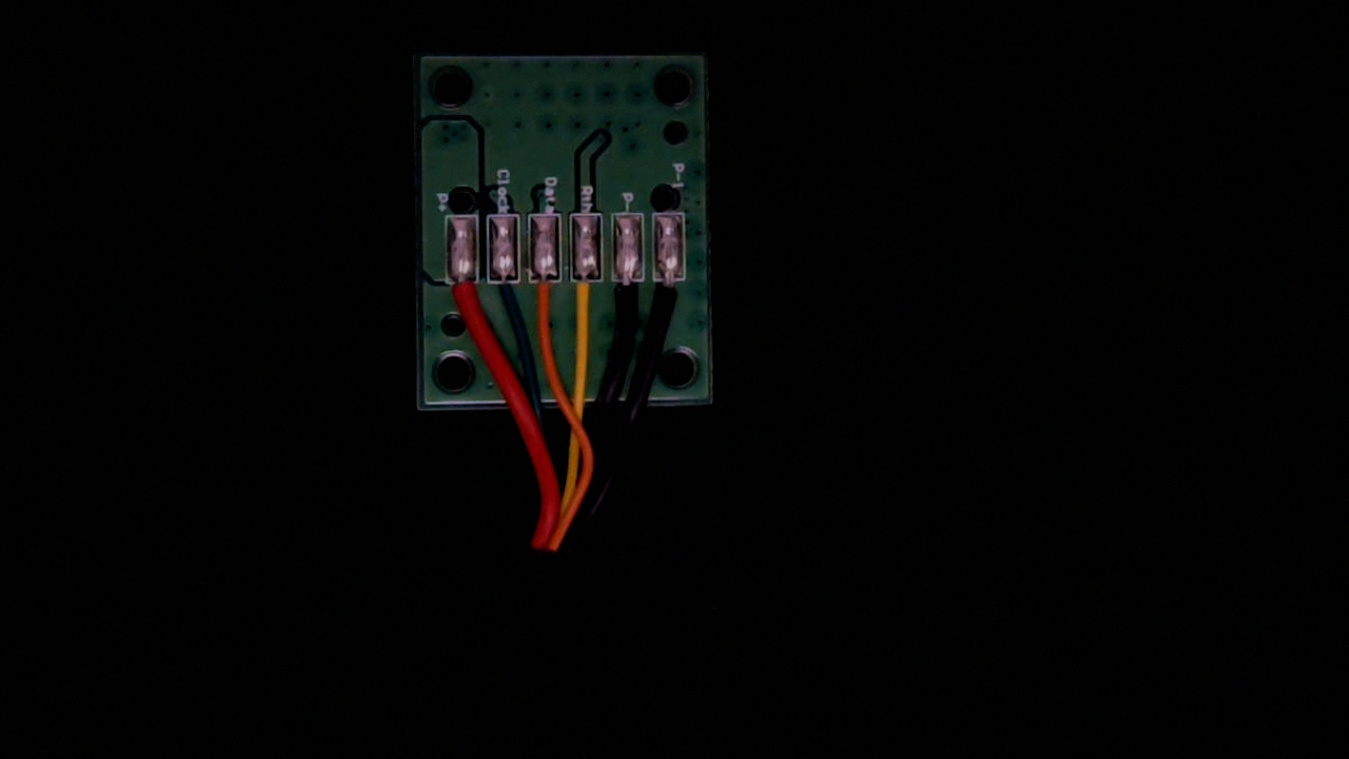Black: (607, 266, 647, 335)
Black1: (653, 264, 689, 336)
Green: (488, 264, 520, 327)
Orange: (528, 266, 561, 332)
Red: (444, 267, 480, 329)
Yellow: (568, 265, 603, 336)
